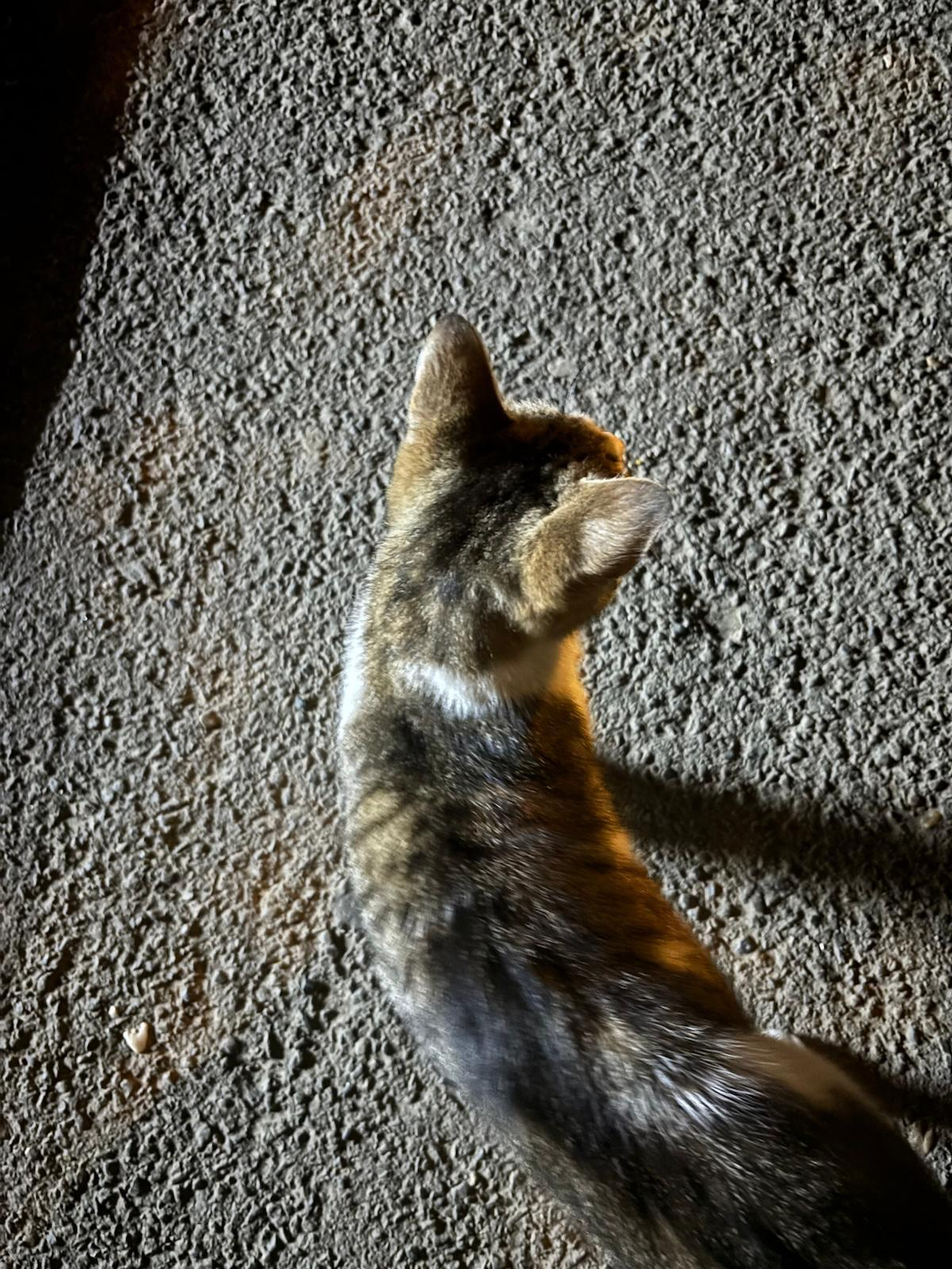macka: (337, 316, 951, 1268)
